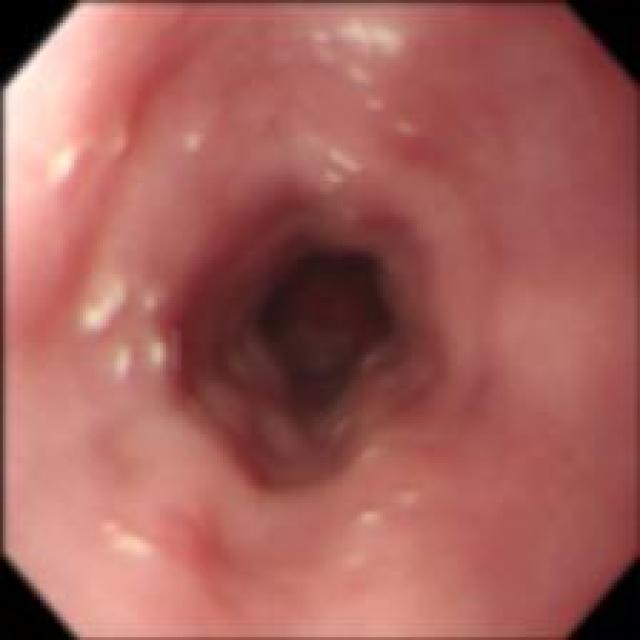blur: (1, 1, 638, 638)
contrast: (238, 240, 401, 411)
